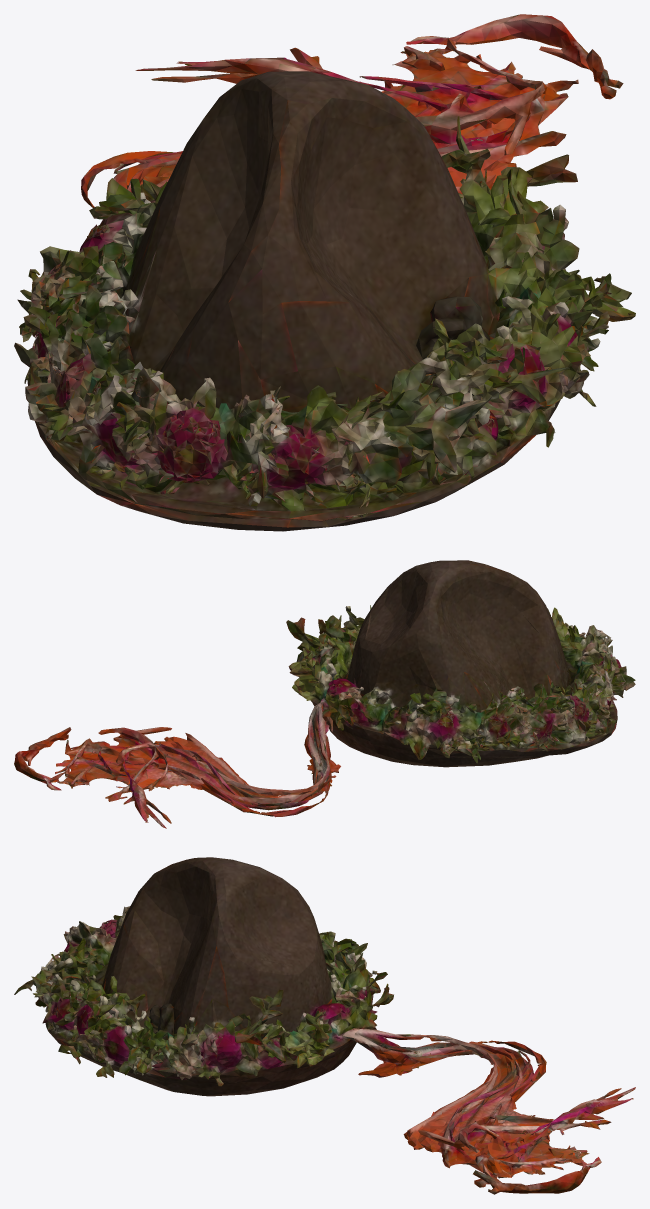
3 renders of one model, top to bottom at view 1: azimuth 30°, elevation 25°; view 2: azimuth 150°, elevation 25°; view 3: azimuth 270°, elevation 25°, orthographic. The views are drawn at different scales.
Parts seen in each view (by area): view 1: Blumenkranz 2_34k_1k; view 2: Blumenkranz 2_34k_1k; view 3: Blumenkranz 2_34k_1k.
Boxes of the visible parts, <box> form: Blumenkranz 2_34k_1k: <box>14,14,635,531</box>; Blumenkranz 2_34k_1k: <box>14,560,635,828</box>; Blumenkranz 2_34k_1k: <box>14,857,635,1194</box>.
Size of the model in its own units: 0.4324 by 0.1577 by 0.4916.
1 material, 1 textured.
